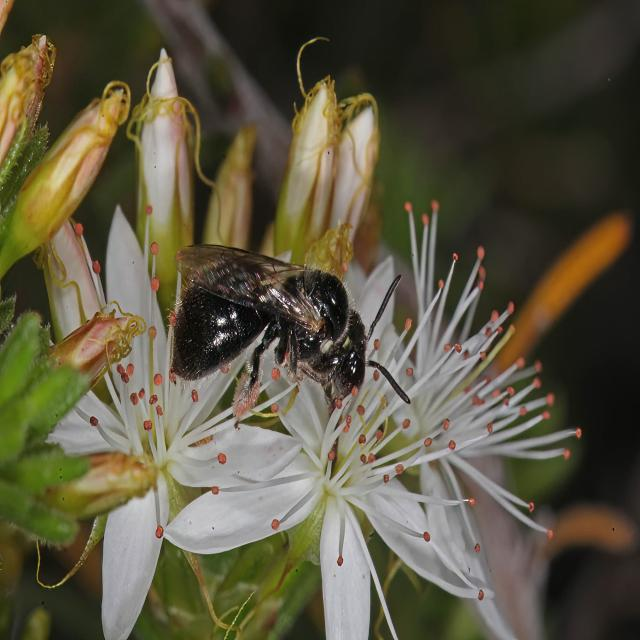Xylocopa: (163, 221, 417, 452)
